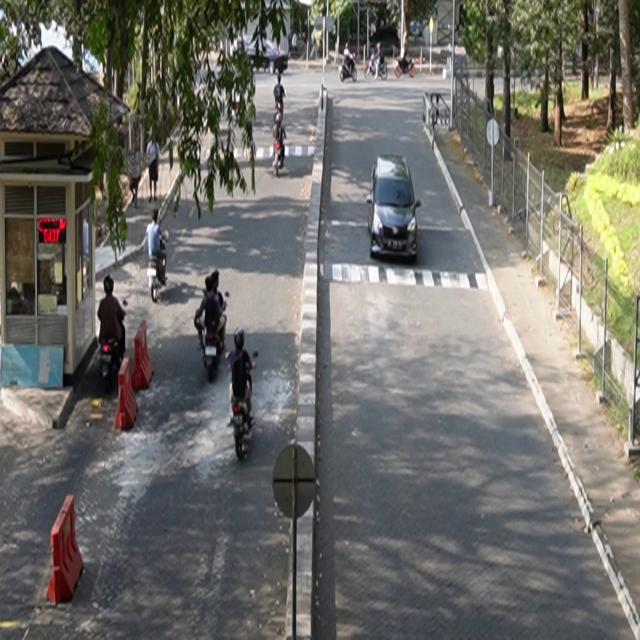car: (367, 154, 422, 261)
